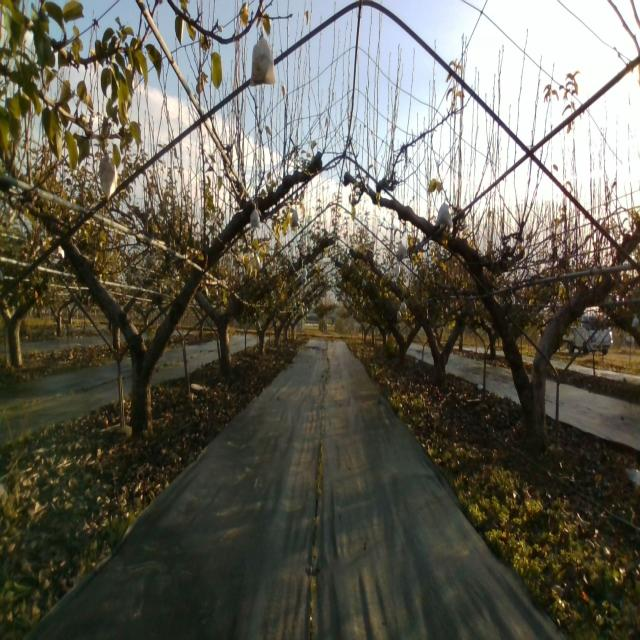pearbags: (249, 26, 276, 87), (95, 157, 118, 201), (434, 201, 454, 229), (250, 204, 260, 229)
